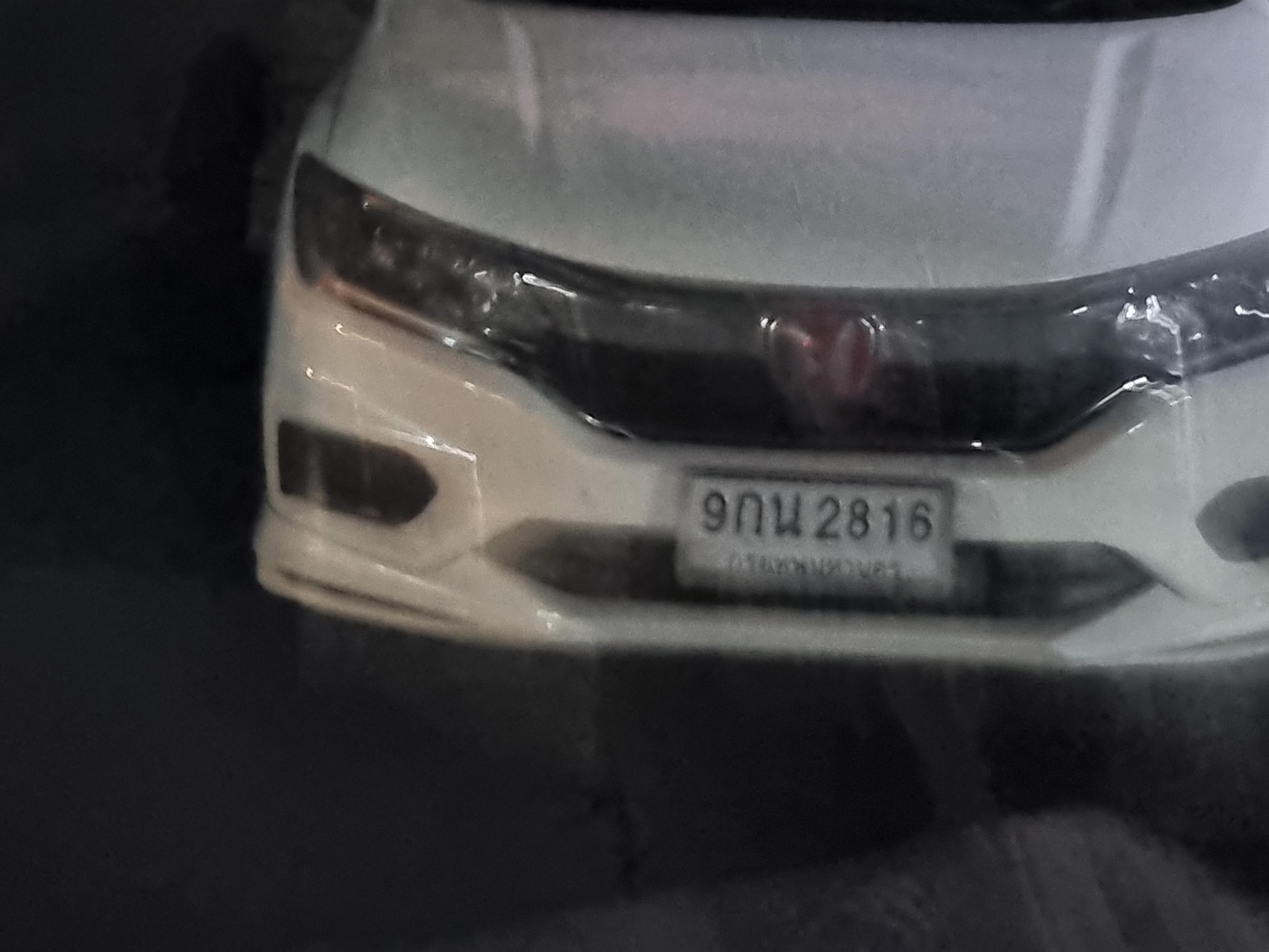license-plate: (675, 457, 956, 600)
